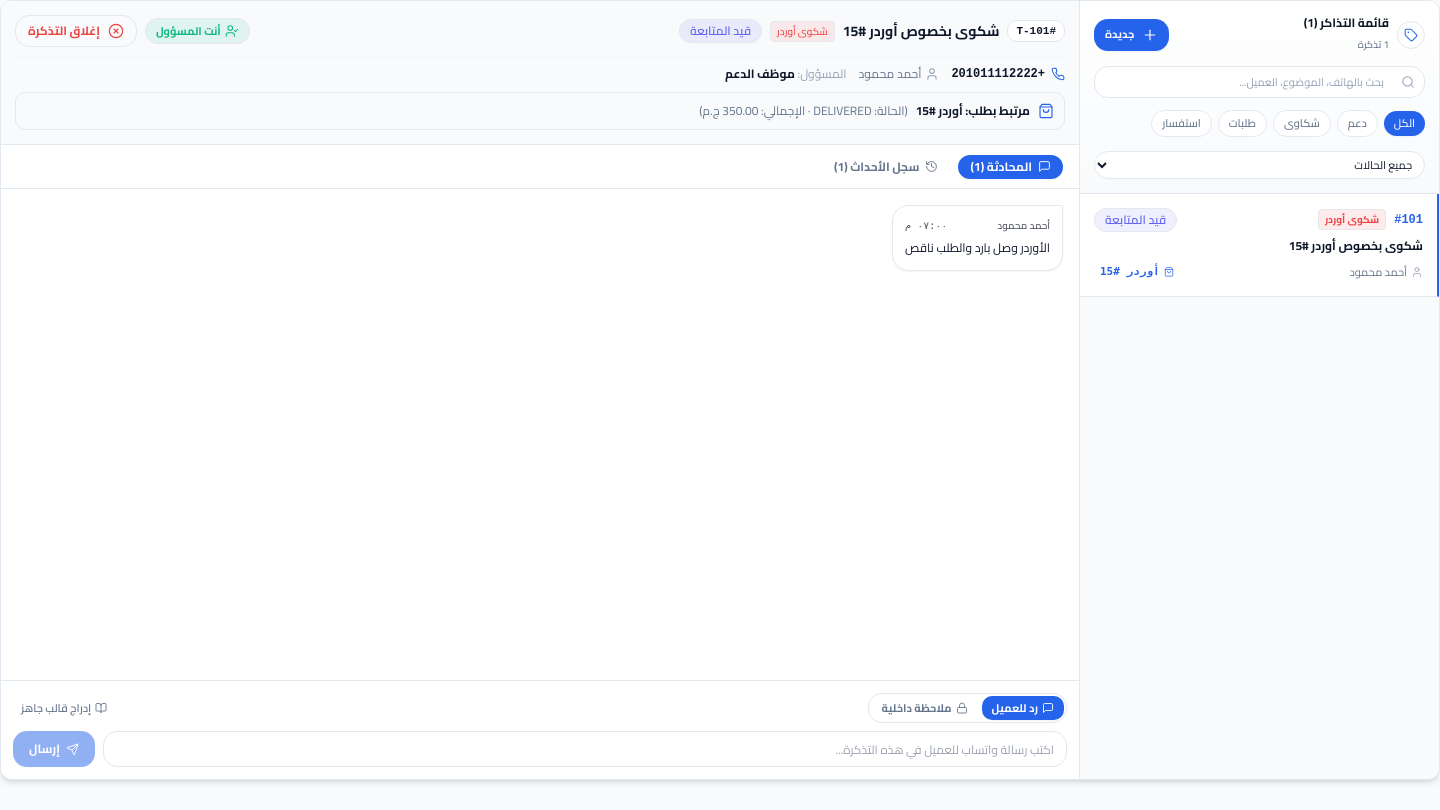
Test: WhatsAppTicketsView Component Unit Tests › switches to Activity Logs tab and displays ticket history
Expected: the text "سجل الأحداث (1)" is shown, [834,158,920,174]
Click the button "سجل الأحداث (1)": (886,166) [822,154,950,178]
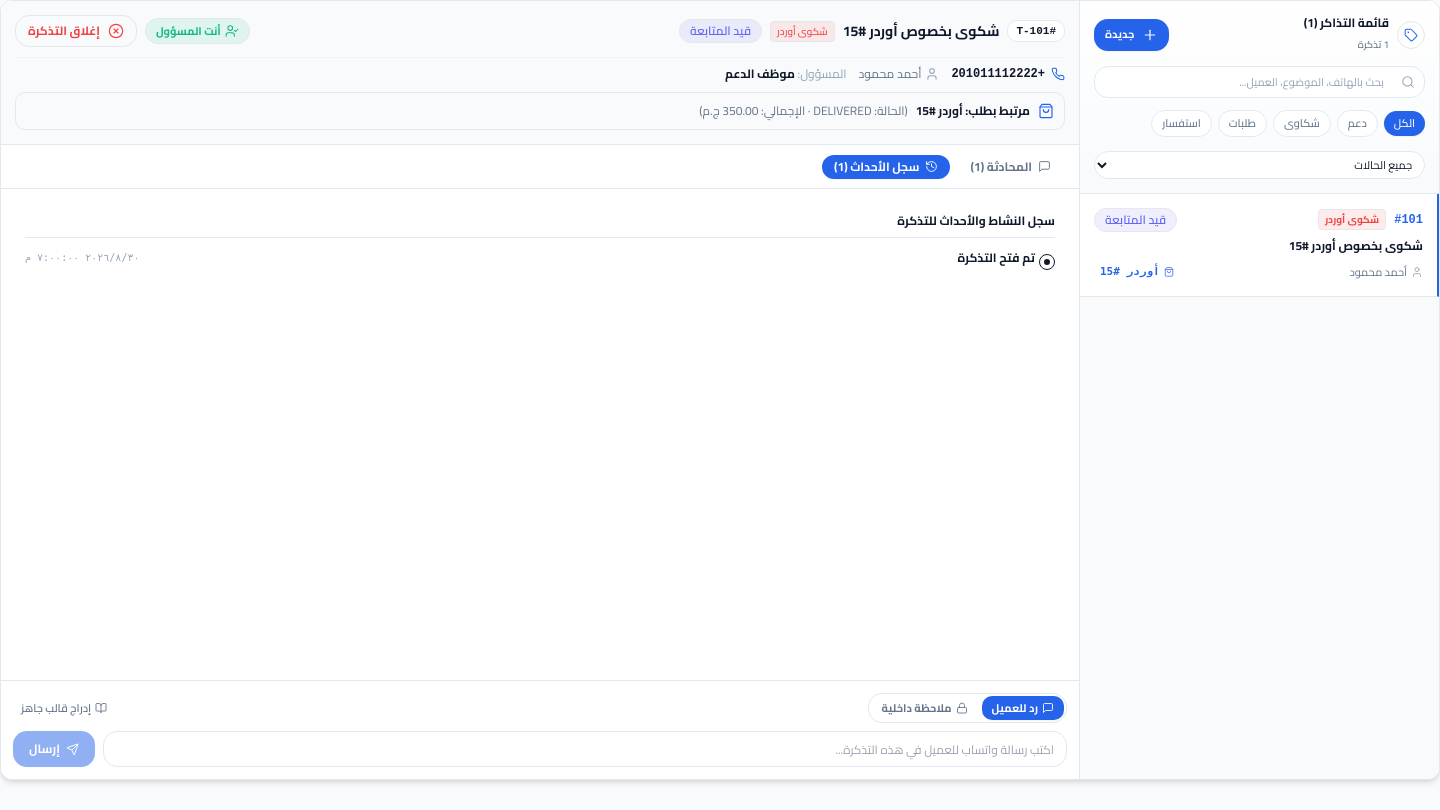
Result: the heading "سجل النشاط والأحداث للتذكرة" is shown at [25,213,1055,238]
Result: the text "تم فتح التذكرة" is shown at [958,250,1035,266]
